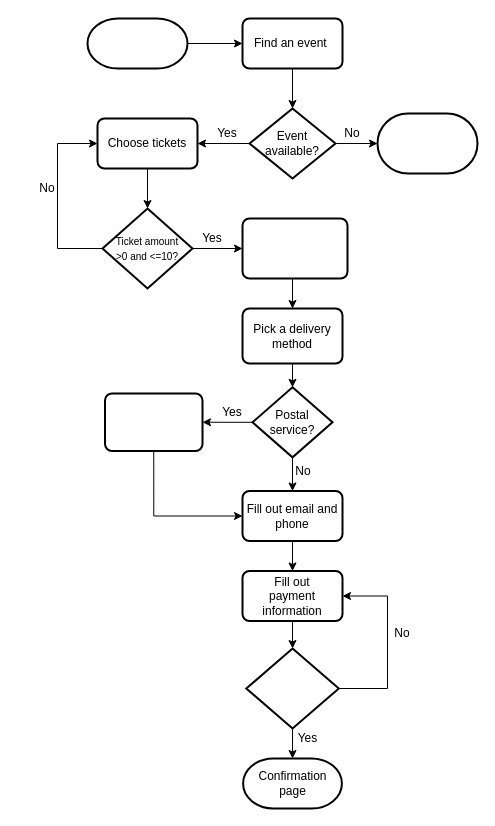
Image size: 495x826. Some labels were removed from this diagram. The centre of each missing label's shape, as x and y in pixels:
"Display booking not available" belongs at (x=427, y=143).
"Fill out address information" belongs at (x=153, y=422).
"Fill out ticket holder information" belongs at (x=294, y=248).
"Menu page" belongs at (x=137, y=43).
"Valid card information?" belongs at (x=292, y=688).
